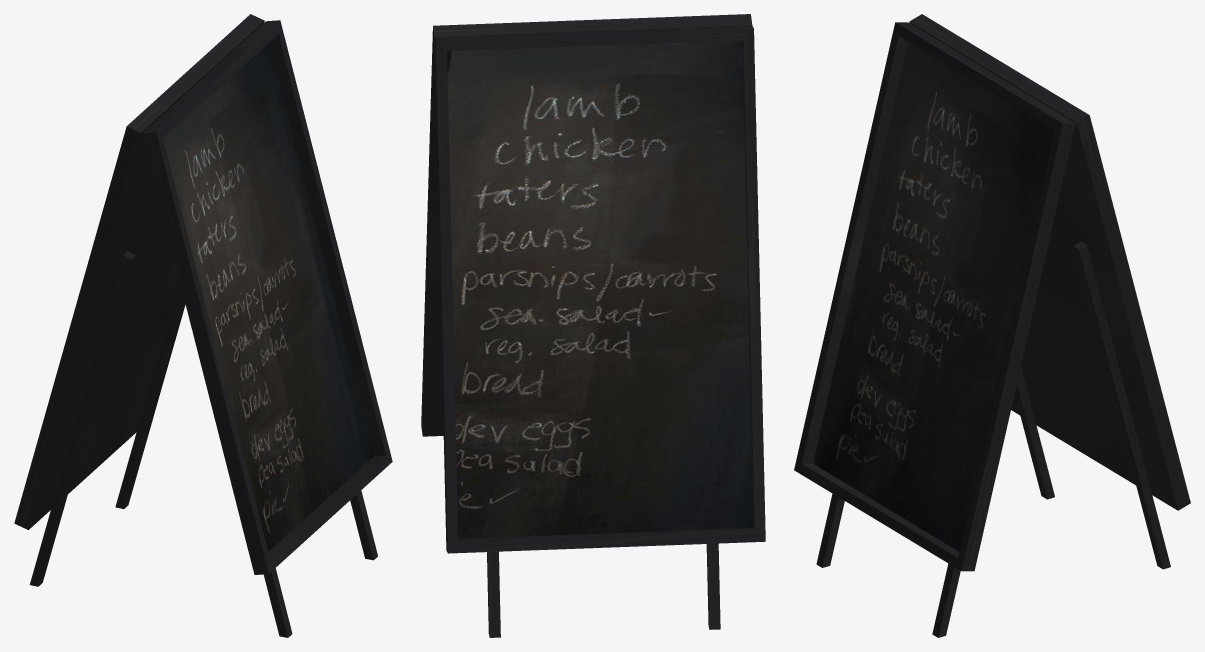
File: MenuBoardShort.FBX
3 renders of one model, left to right at view 1: azimuth 30°, elevation 25°; view 2: azimuth 150°, elevation 25°; view 3: azimuth 270°, elevation 25°, orthographic. The views are drawn at different scales.
Parts seen in each view (by area): view 1: Box118; view 2: Box118; view 3: Box118.
Part boxes in pixels (x1,y1,x2,y2): Box118: (14,14,392,637); Box118: (421,14,765,637); Box118: (794,14,1190,637).
Size of the model in its own units: 10.76 by 14.77 by 10.67.
Materials: 1 (1 with a texture image).
